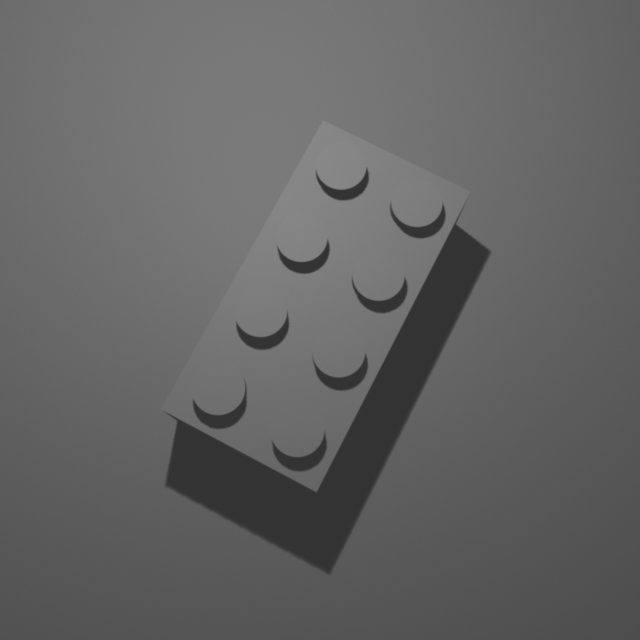lego_2x4: (158, 113, 474, 495)
